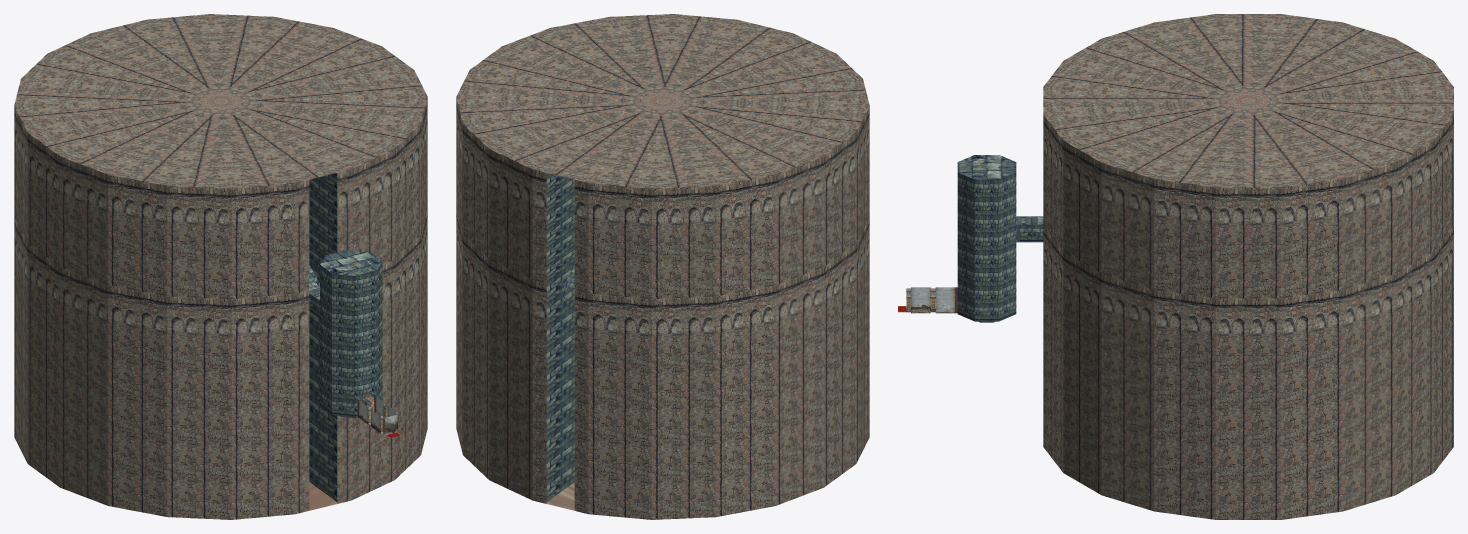
File: Terror_hall2.obj
3 renders of one model, left to right at view 1: azimuth 30°, elevation 25°; view 2: azimuth 150°, elevation 25°; view 3: azimuth 270°, elevation 25°, orthographic.
Visible parts, largest first — view 1: Object_2; view 2: Object_2; view 3: Object_2.
Boxes of the visible parts, x1,y1,x2,y2 form: Object_2: (14, 14, 427, 519); Object_2: (456, 14, 869, 519); Object_2: (898, 14, 1453, 519).
Bounding box in the file's own units: 1679 × 1500 × 2273.
